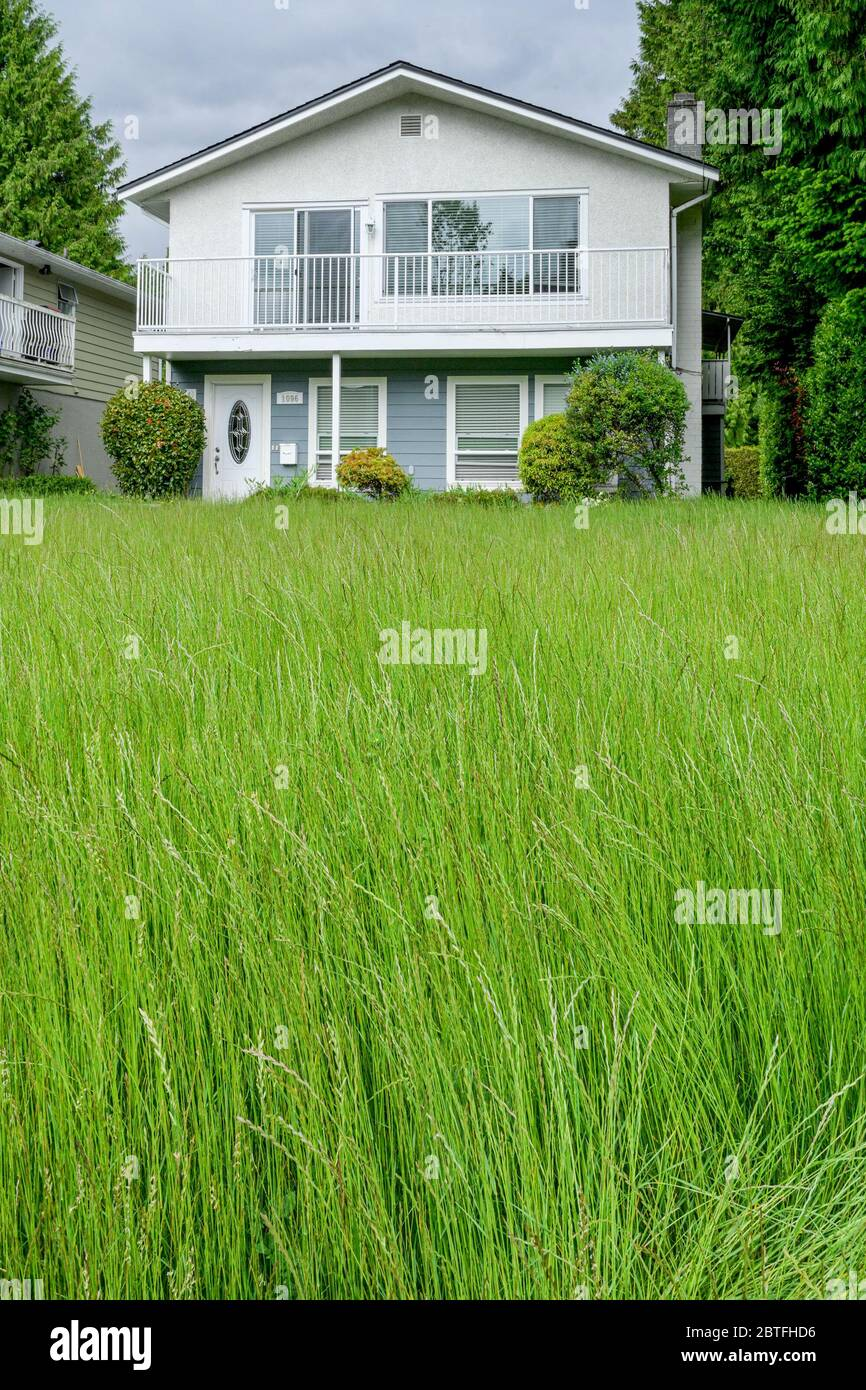grass: (1, 557, 866, 1298)
